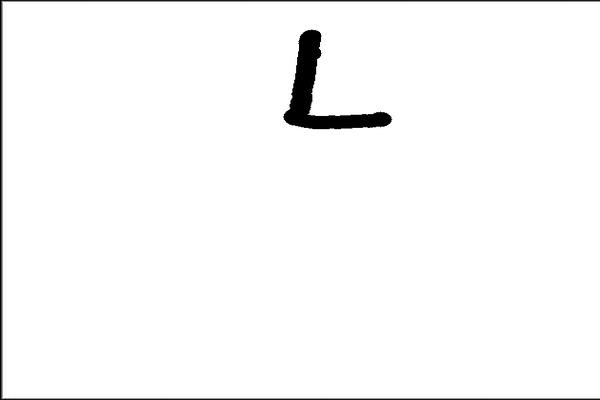L: (274, 21, 402, 135)
